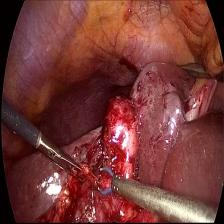Bipolar: (90, 154, 124, 201)
Grasper: (34, 121, 86, 195)
